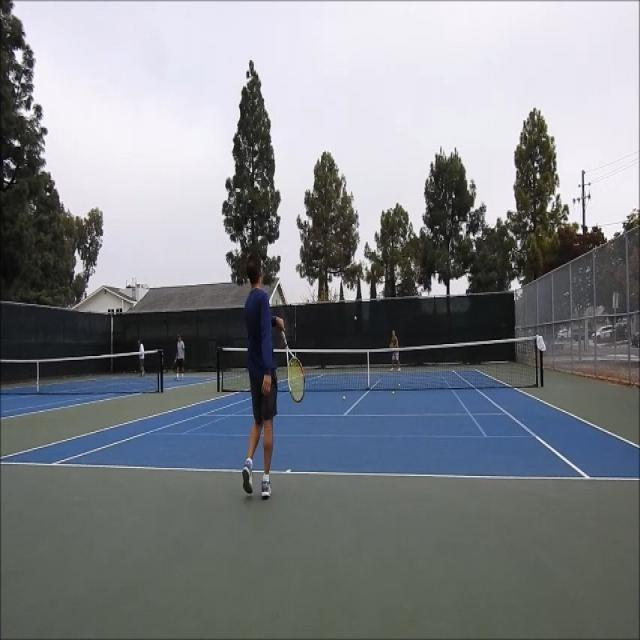court: (0, 368, 640, 480)
net: (217, 333, 546, 393)
player: (242, 255, 306, 500)
